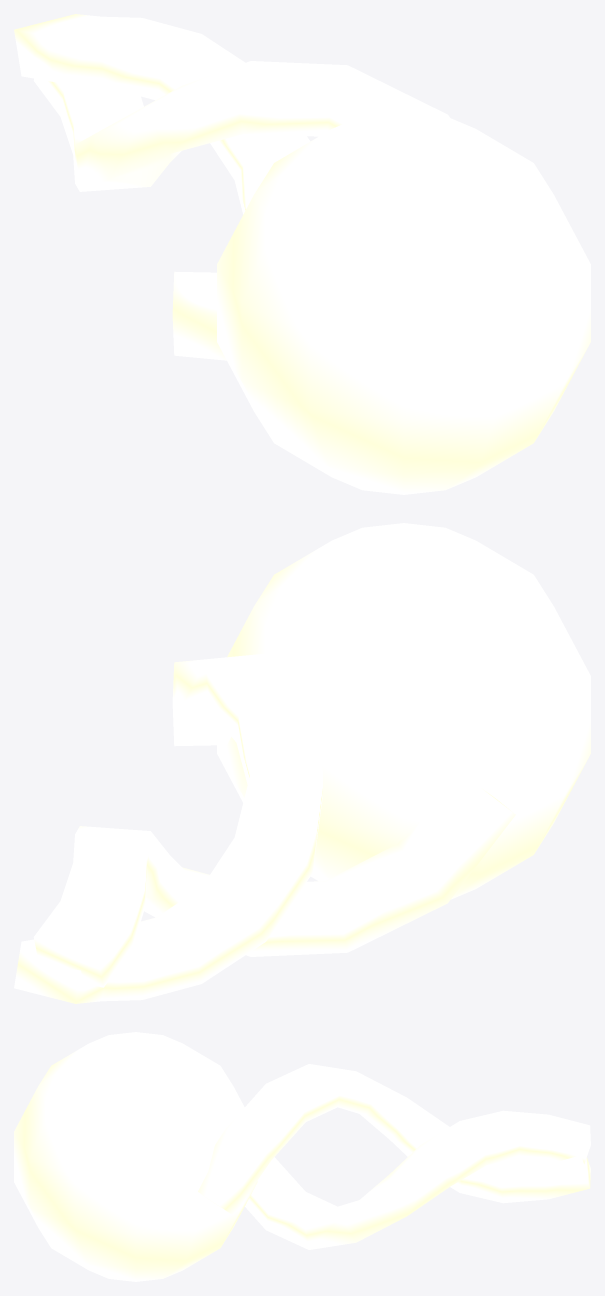
Rendered from bolt.glb.
3 views of the same model, one above another, from view 1: azimuth 30°, elevation 25°; view 2: azimuth 150°, elevation 25°; view 3: azimuth 270°, elevation 25° (orthographic). The views are drawn at different scales.
Parts seen in each view (by area): view 1: orb, tail; view 2: orb, tail; view 3: orb, tail.
Part boxes in pixels (bbox=[...]): orb: bbox=[217, 111, 590, 494]; tail: bbox=[14, 14, 449, 360]; orb: bbox=[217, 523, 590, 899]; tail: bbox=[14, 653, 515, 1003]; orb: bbox=[14, 1032, 257, 1281]; tail: bbox=[198, 1064, 590, 1249].
Size of the model in its own units: 0.4133 by 0.3802 by 0.9232.
